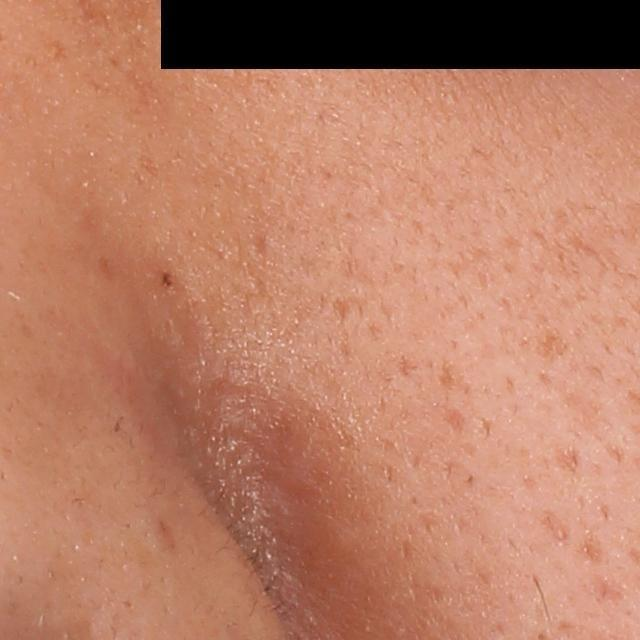atrophic_scar: (443, 404, 475, 442)
nevus: (155, 270, 175, 291)
